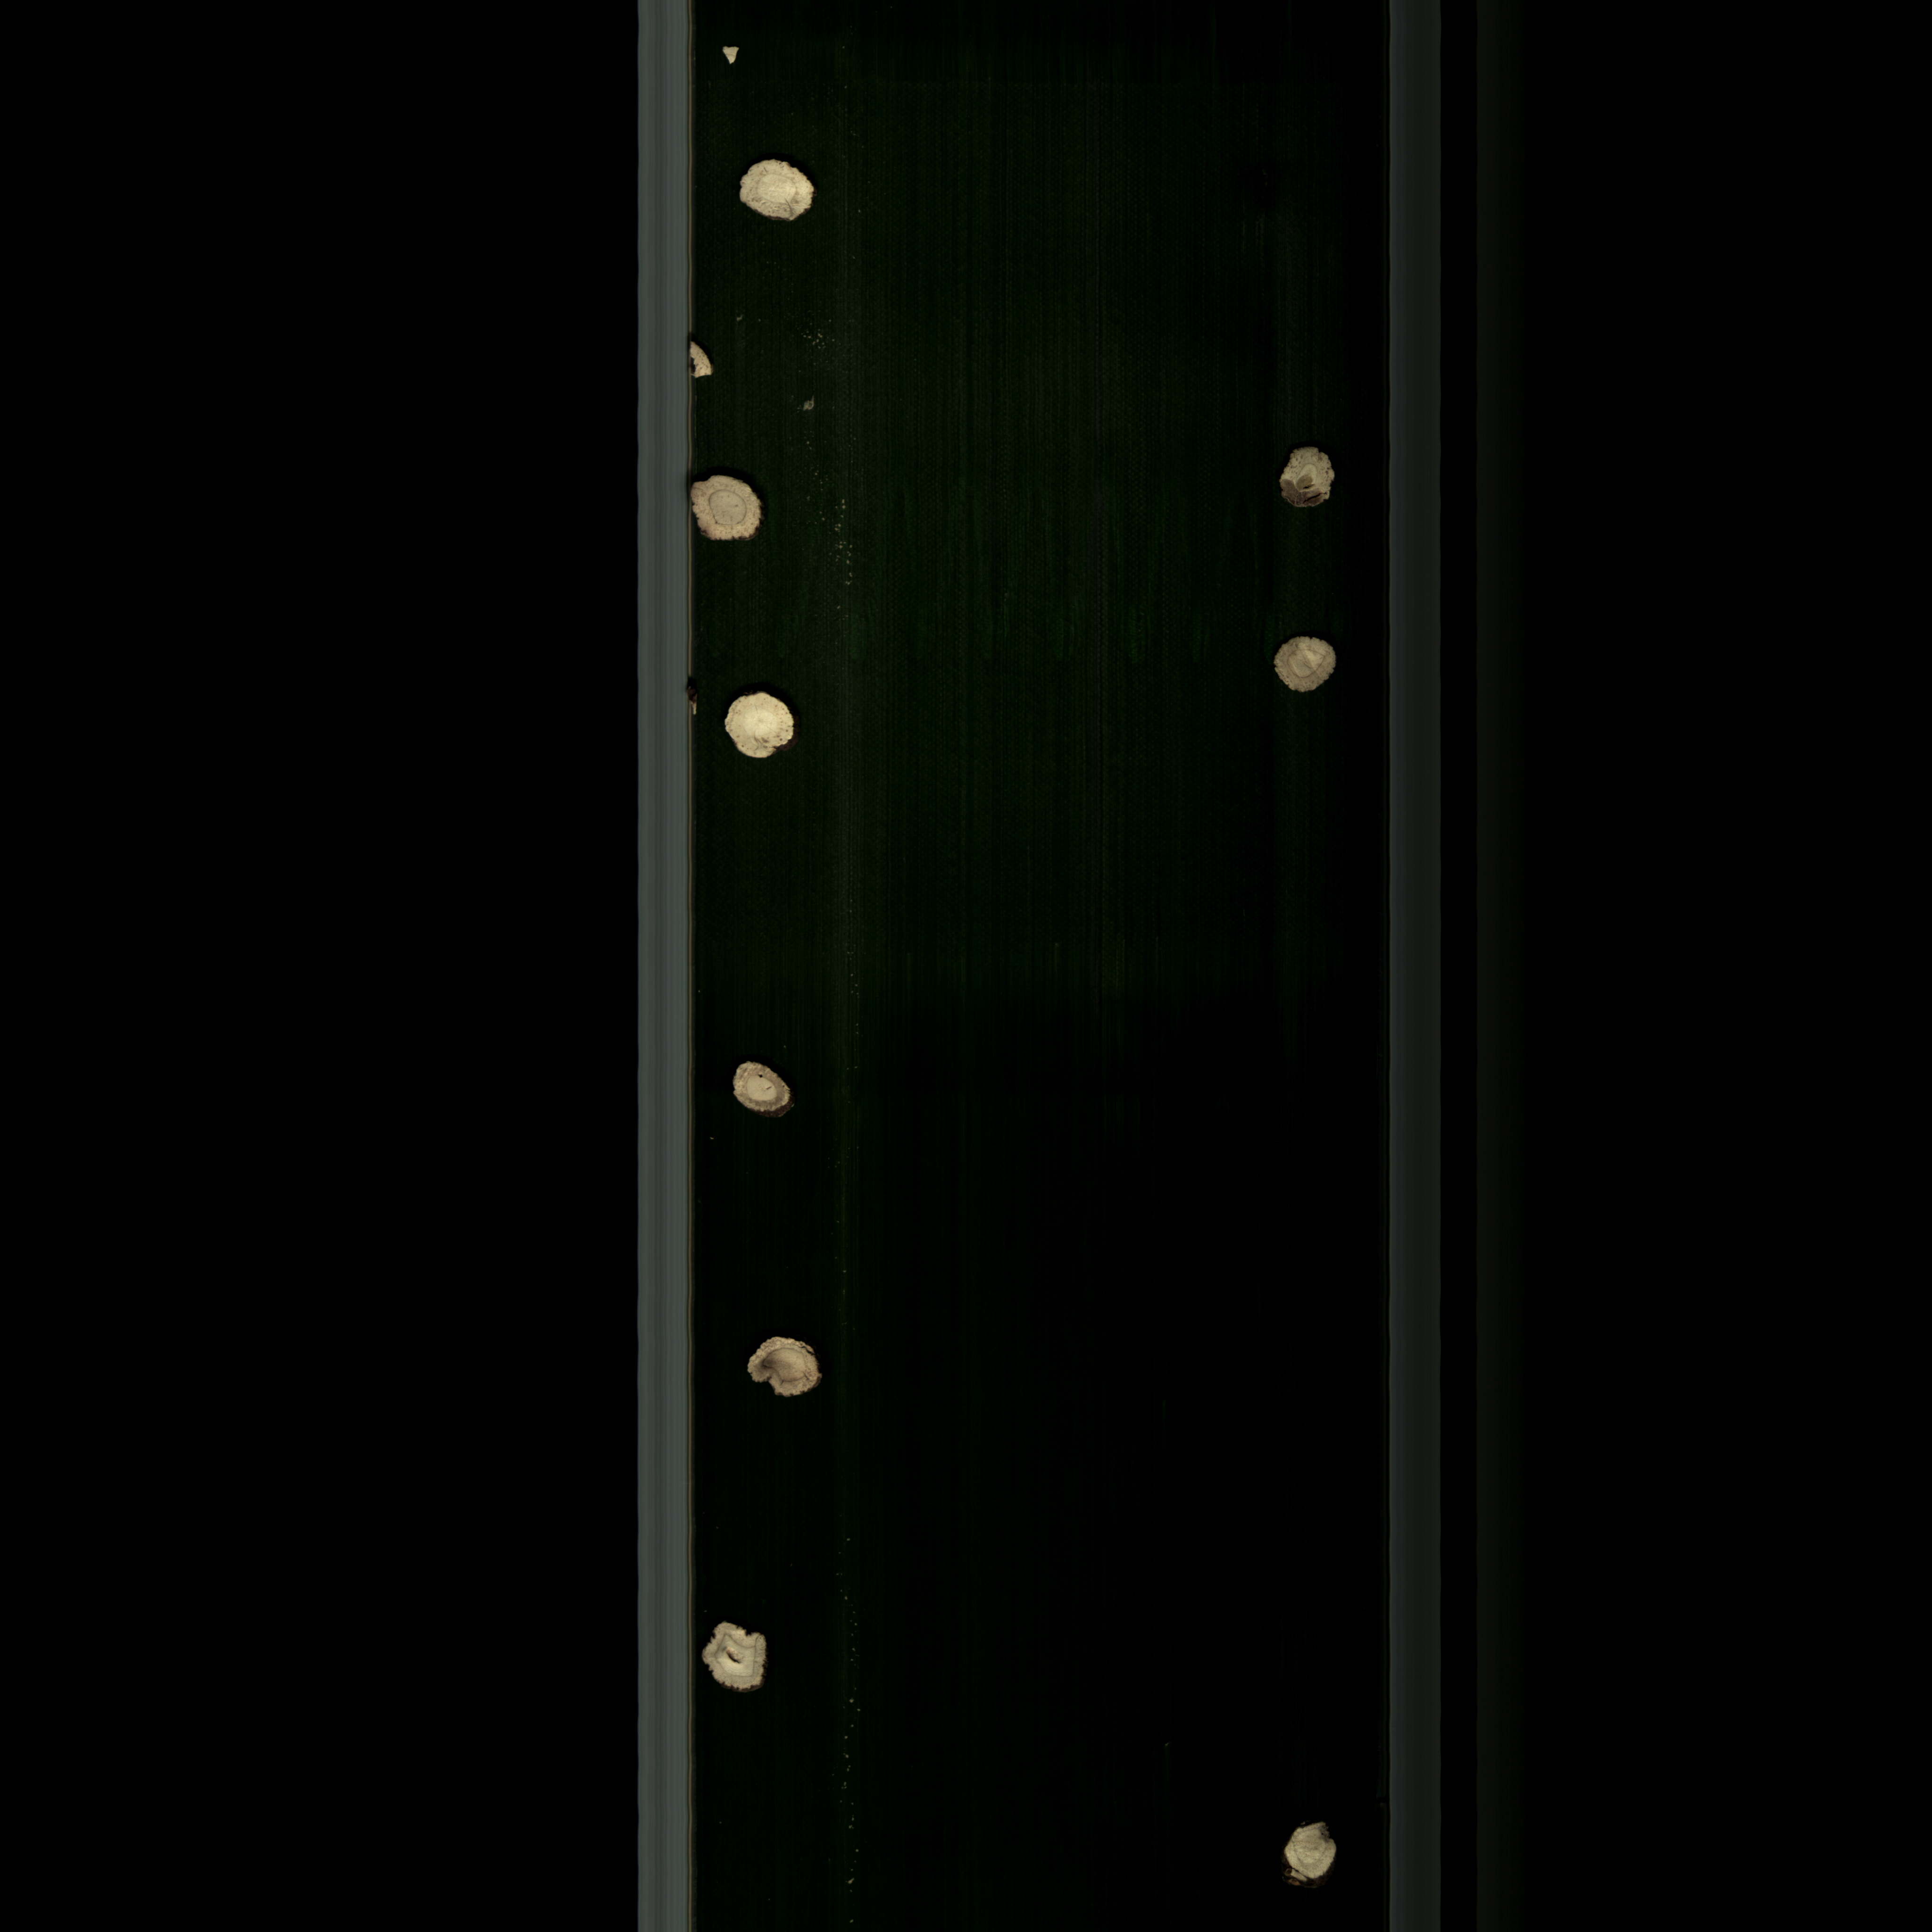debris: (1267, 1805, 1348, 1897)
distortion: (734, 154, 830, 230), (686, 472, 775, 548), (699, 1619, 775, 1697)
dreg: (679, 331, 713, 384), (713, 39, 747, 67)
moldy: (732, 1327, 837, 1403), (1265, 625, 1353, 704), (1270, 433, 1341, 525), (725, 1053, 800, 1120)
